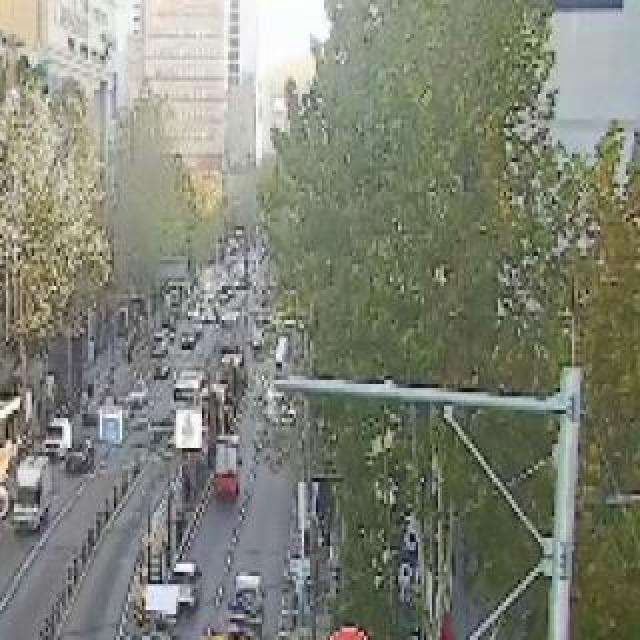truck: (10, 453, 54, 539), (212, 434, 244, 506)
